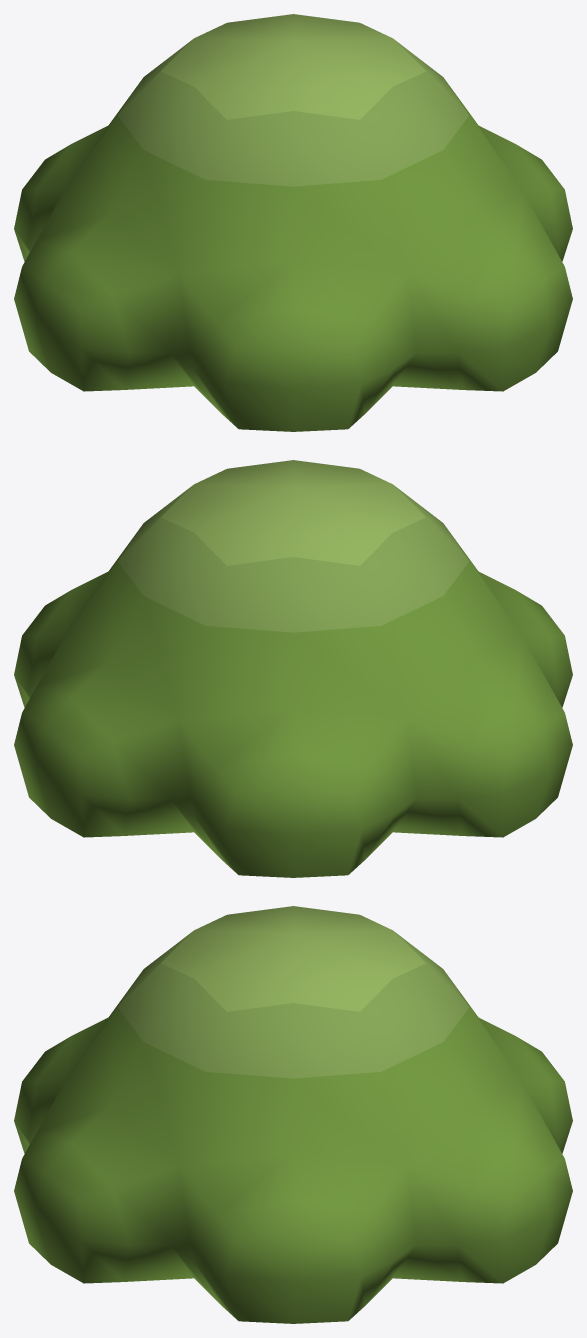
The model's file is itch_tiny_pretty_park_bush_large.glb.
3 views of the same model, one above another, from view 1: azimuth 30°, elevation 25°; view 2: azimuth 150°, elevation 25°; view 3: azimuth 270°, elevation 25° (orthographic).
Parts seen in each view (by area): view 1: bush_large; view 2: bush_large; view 3: bush_large.
Boxes of the visible parts, left/top/right/bottom form: bush_large: left=14, top=14, right=572, bottom=431; bush_large: left=14, top=460, right=572, bottom=877; bush_large: left=14, top=906, right=572, bottom=1323.
Size of the model in its own units: 0.96 by 0.4857 by 0.9047.
